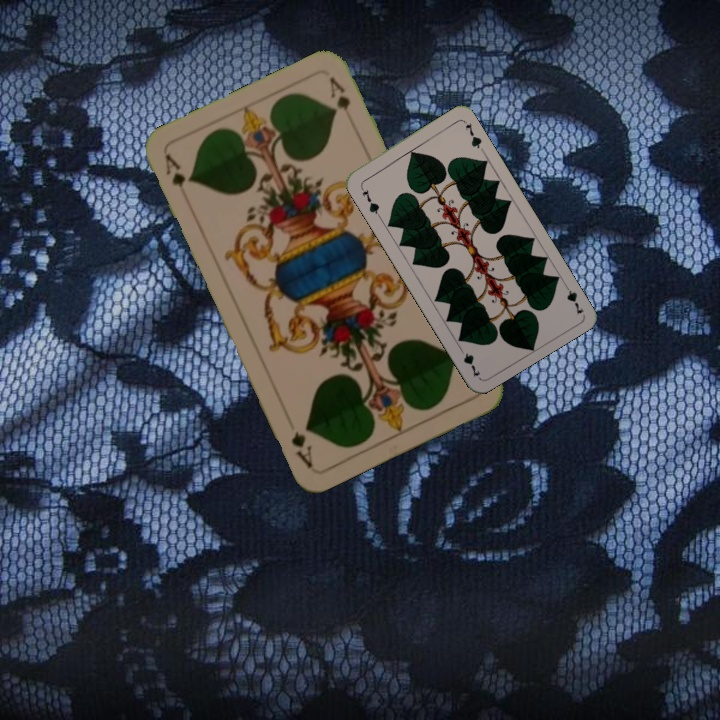G7: (560, 279, 586, 317), (356, 182, 383, 218)
GA: (161, 150, 193, 206)
